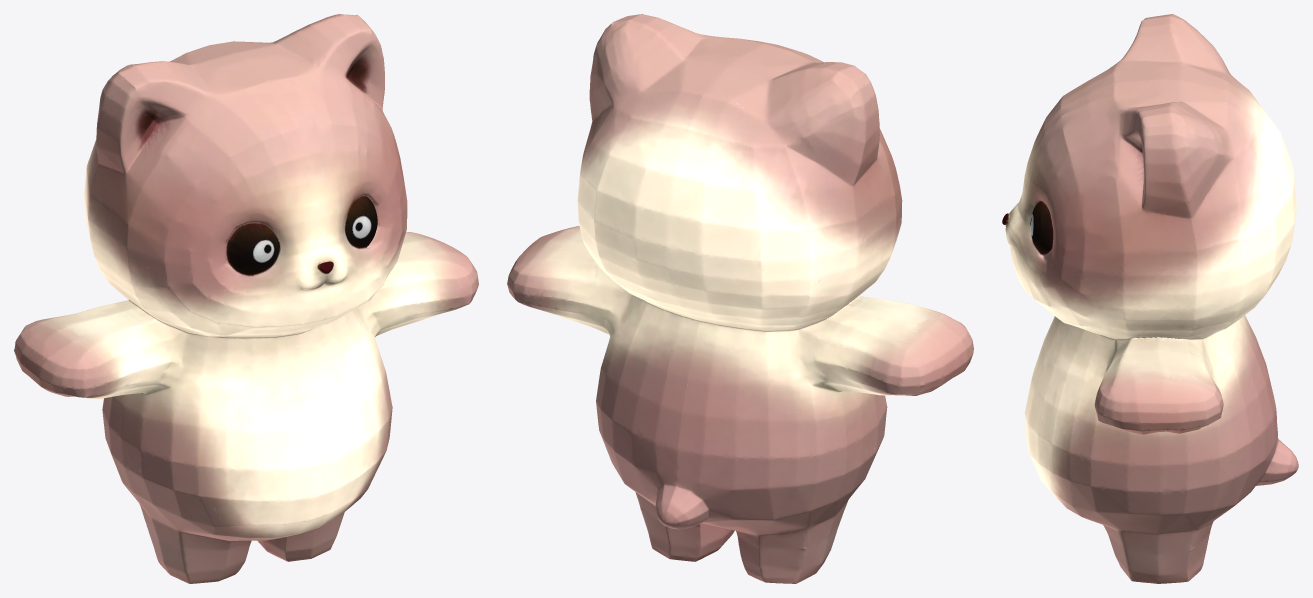
The model's file is fluffball.glb.
The picture shows the model from 3 angles, left to right: view 1: azimuth 30°, elevation 25°; view 2: azimuth 150°, elevation 25°; view 3: azimuth 270°, elevation 25°; orthographic projection. The views are drawn at different scales.
Bounding box in the file's own units: 1.68 × 1.9 × 1.05.
Materials: 1 (1 with a texture image).
